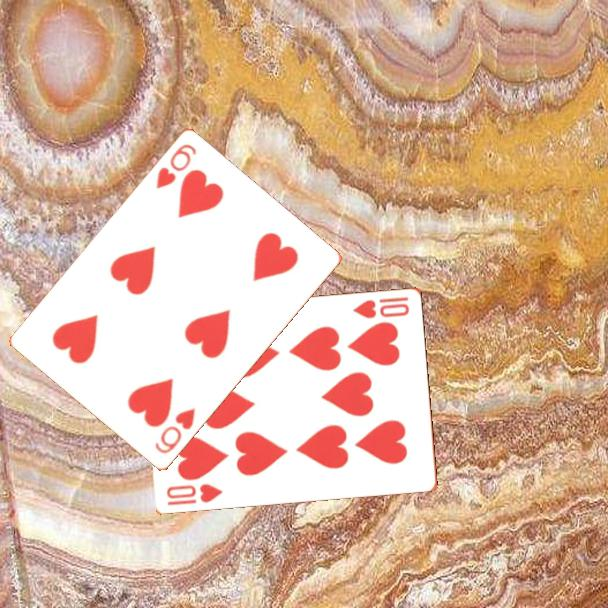h06: (151, 405, 198, 457), (152, 141, 199, 192)
h10: (350, 293, 412, 321), (163, 480, 225, 508)
